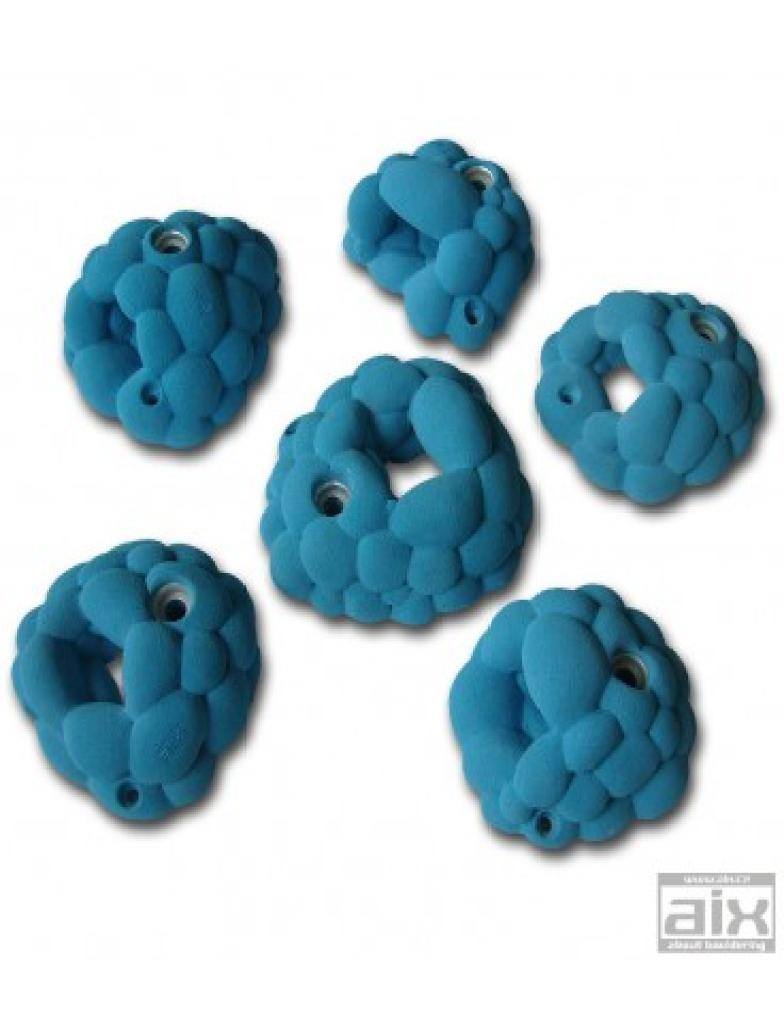pocket: (260, 356, 530, 624), (13, 541, 260, 822), (450, 588, 695, 848), (64, 212, 281, 449), (535, 293, 758, 502), (345, 139, 530, 349)
